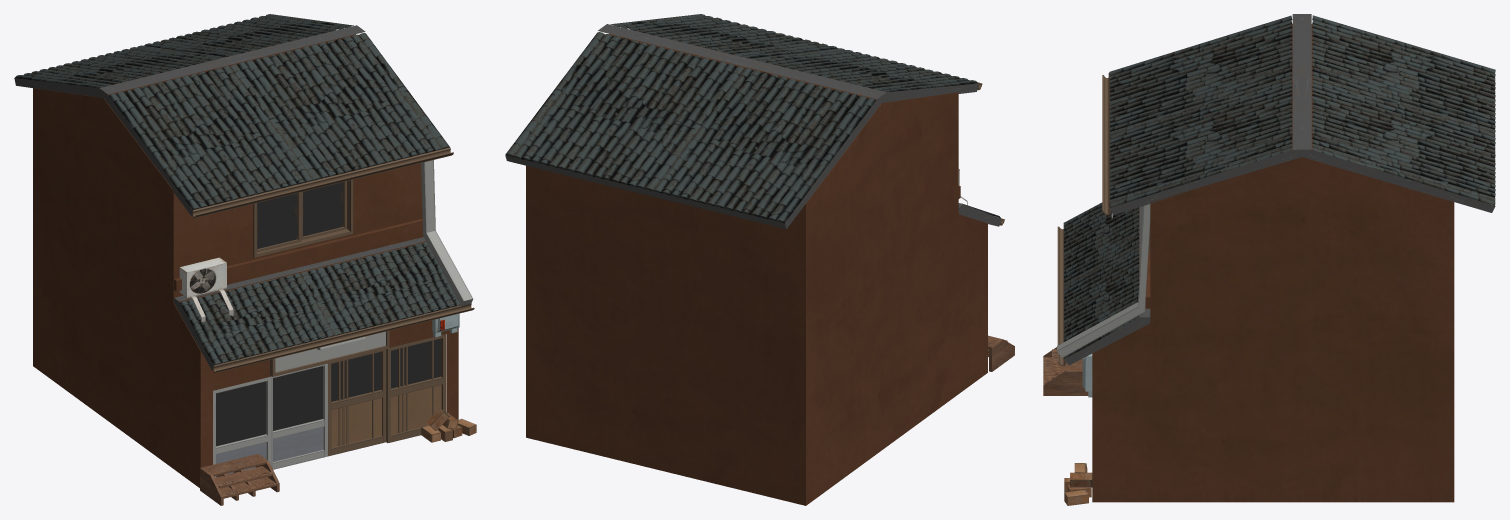
File: yuri-home-exterior.glb
The picture shows the model from 3 angles, left to right: view 1: azimuth 30°, elevation 25°; view 2: azimuth 150°, elevation 25°; view 3: azimuth 270°, elevation 25°; orthographic projection. The views are drawn at different scales.
Parts seen in each view (by area): view 1: Yuri canal house; view 2: Yuri canal house; view 3: Yuri canal house.
Part boxes in pixels (bbox=[...]): Yuri canal house: bbox=[14, 14, 476, 505]; Yuri canal house: bbox=[505, 14, 1014, 505]; Yuri canal house: bbox=[1043, 14, 1495, 505].
Size of the model in its own units: 6.01 by 7.03 by 8.16.
1 material, 1 textured.
